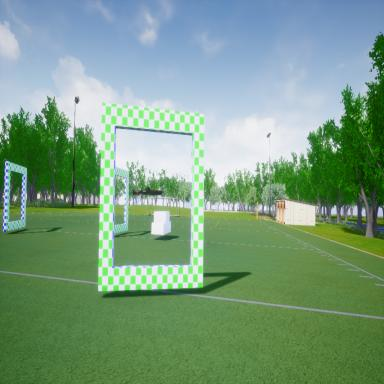gate: (97, 96, 206, 306), (2, 158, 28, 238)
